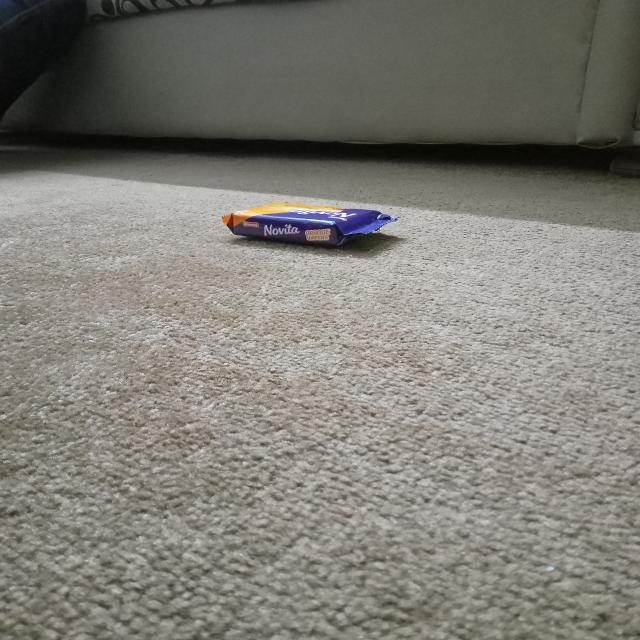Plastic: (224, 202, 398, 248)
